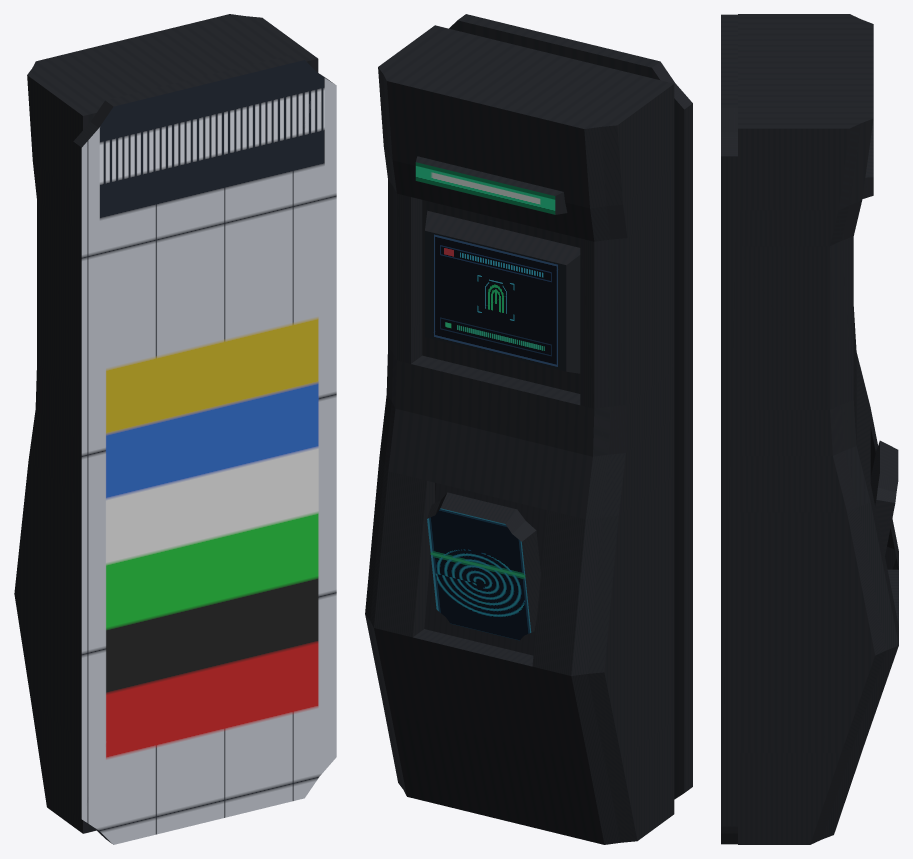
File: SEC_Biometric_Fingerprint_Reader.fbx
The picture shows the model from 3 angles, left to right: view 1: azimuth 30°, elevation 25°; view 2: azimuth 150°, elevation 25°; view 3: azimuth 270°, elevation 25°; orthographic projection.
Visible parts, largest first — view 1: Mount_Plate, Main_Housing; view 2: Main_Housing, Display, Mount_Plate, Fingerprint_Sensor, Status_LED; view 3: Main_Housing, Mount_Plate, Fingerprint_Sensor, Status_LED.
Boxes of the visible parts, <box> form: Mount_Plate: <box>73,54,336,844</box>; Main_Housing: <box>14,14,318,833</box>; Main_Housing: <box>365,25,674,844</box>; Display: <box>425,210,580,373</box>; Mount_Plate: <box>449,14,692,799</box>; Fingerprint_Sensor: <box>427,492,540,640</box>; Status_LED: <box>415,156,567,214</box>; Main_Housing: <box>738,14,898,844</box>; Mount_Plate: <box>721,14,737,844</box>; Fingerprint_Sensor: <box>870,440,898,555</box>; Status_LED: <box>862,119,873,198</box>.
Size of the model in its own units: 5.2 by 14.4 by 3.15.
3 materials, 3 textured.
